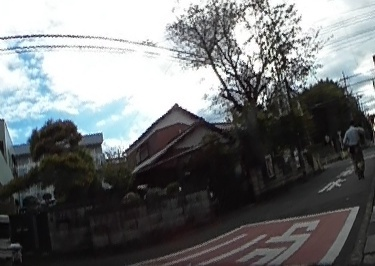person: (341, 121, 367, 178)
